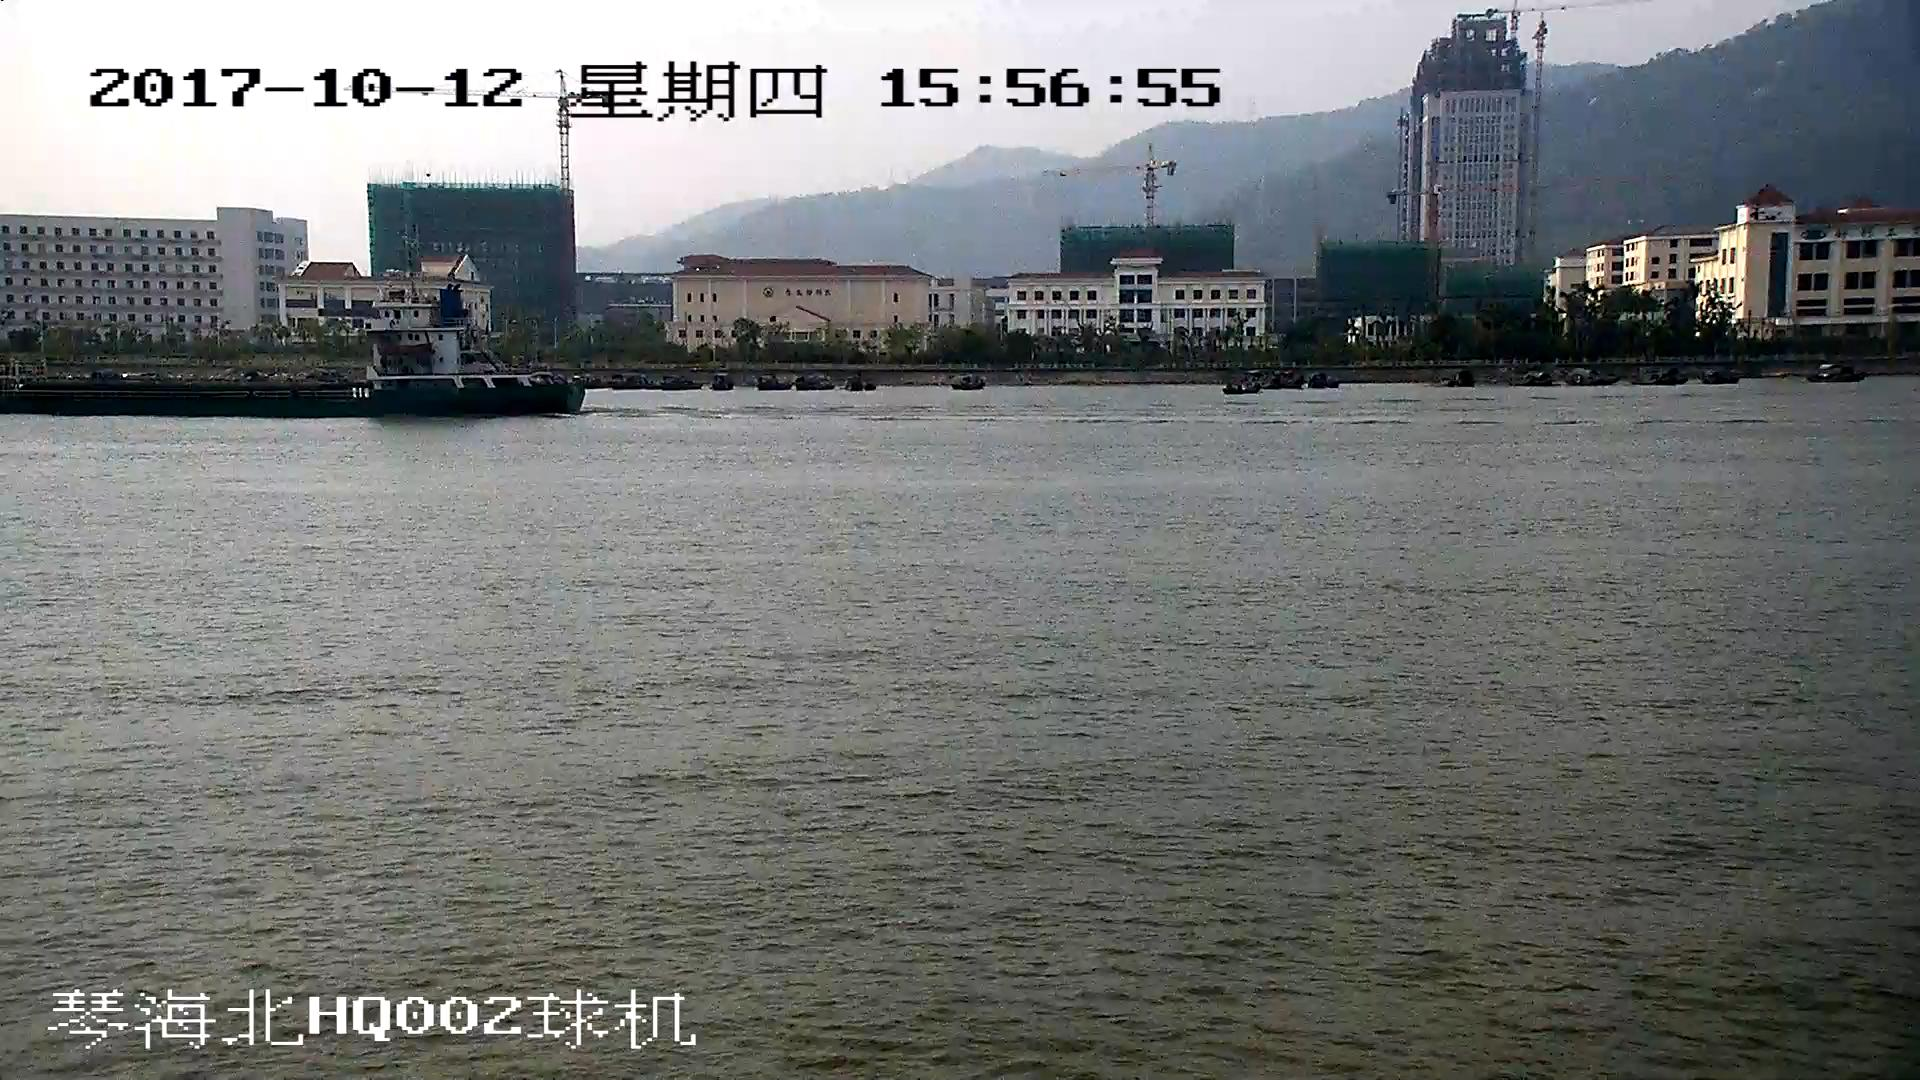general cargo ship: (1, 299, 584, 418)
